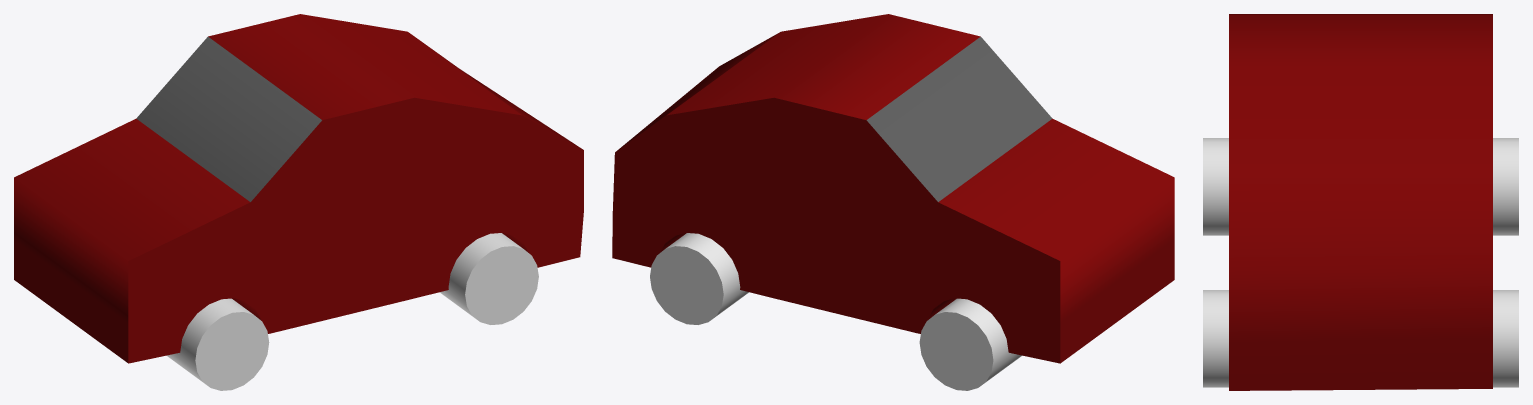
The model's file is Car.fbx.
3 views of the same model, side by side, from view 1: azimuth 30°, elevation 25°; view 2: azimuth 150°, elevation 25°; view 3: azimuth 270°, elevation 25° (orthographic). The views are drawn at different scales.
Parts seen in each view (by area): view 1: pCube3, pCylinder4, pCylinder3; view 2: pCube3, pCylinder4, pCylinder3; view 3: pCube3, pCylinder3, pCylinder4.
Boxes of the visible parts, x1,y1,x2,y2 form: pCube3: (14,14,583,363); pCylinder4: (440,233,538,324); pCylinder3: (167,298,269,390); pCube3: (612,14,1174,363); pCylinder4: (650,233,748,324); pCylinder3: (919,298,1021,390); pCube3: (1229,14,1492,390); pCylinder3: (1203,138,1518,235); pCylinder4: (1203,290,1518,387).
Size of the model in its own units: 5.47 by 2.72 by 2.85.
